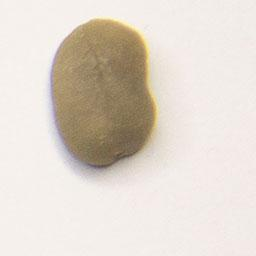premium: (46, 14, 161, 174)
